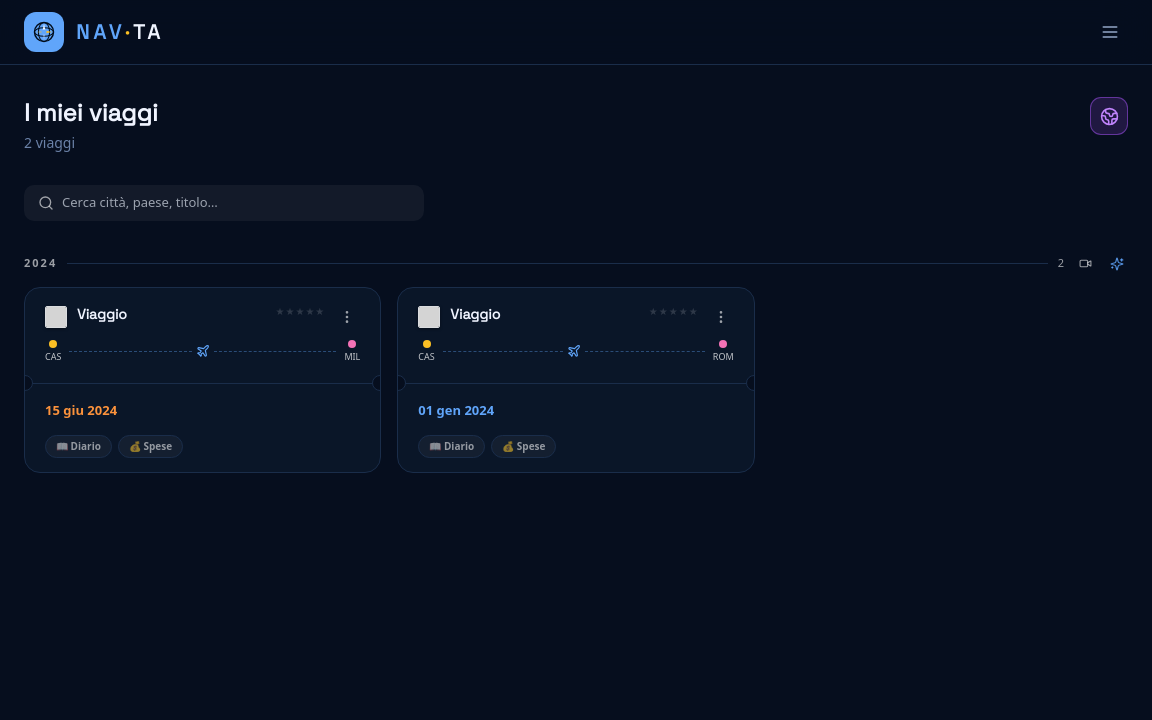
Test: MieiViaggi — recap 3D per anno › il bottone Chiudi chiude la modale del recap
Click the button named "Rivivi il 2024 in 3D": (1085, 264) [1074,252,1096,274]
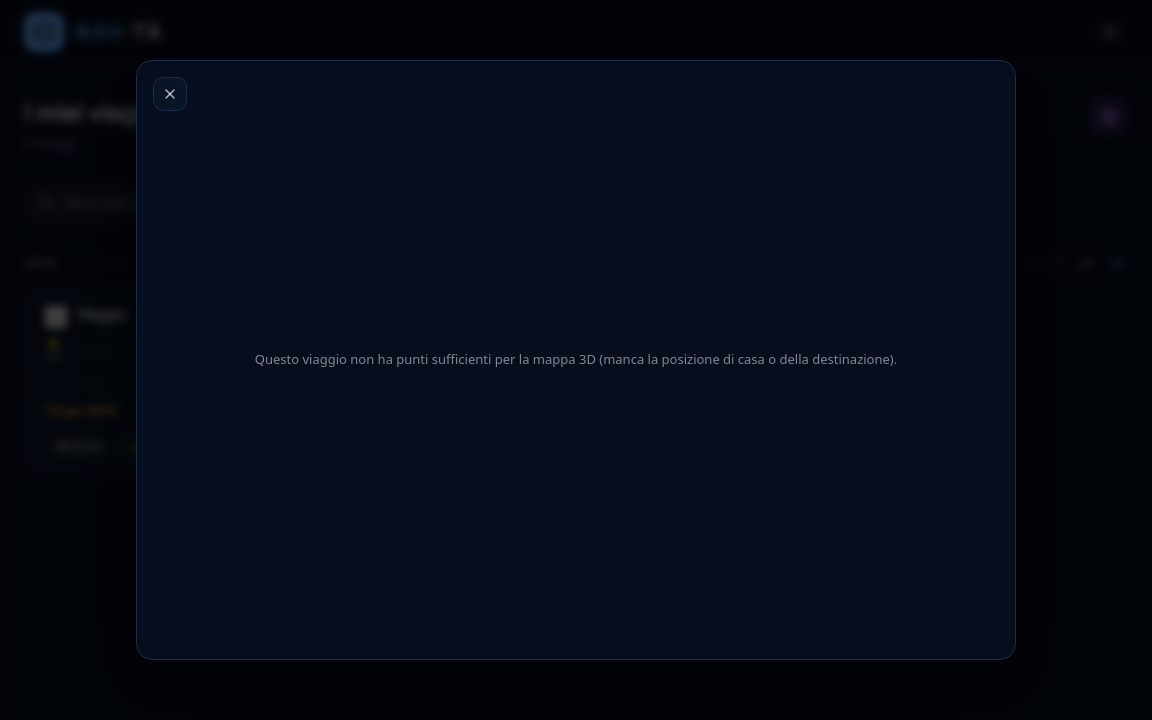
Click the button named "Chiudi": (170, 94) [153,77,187,111]
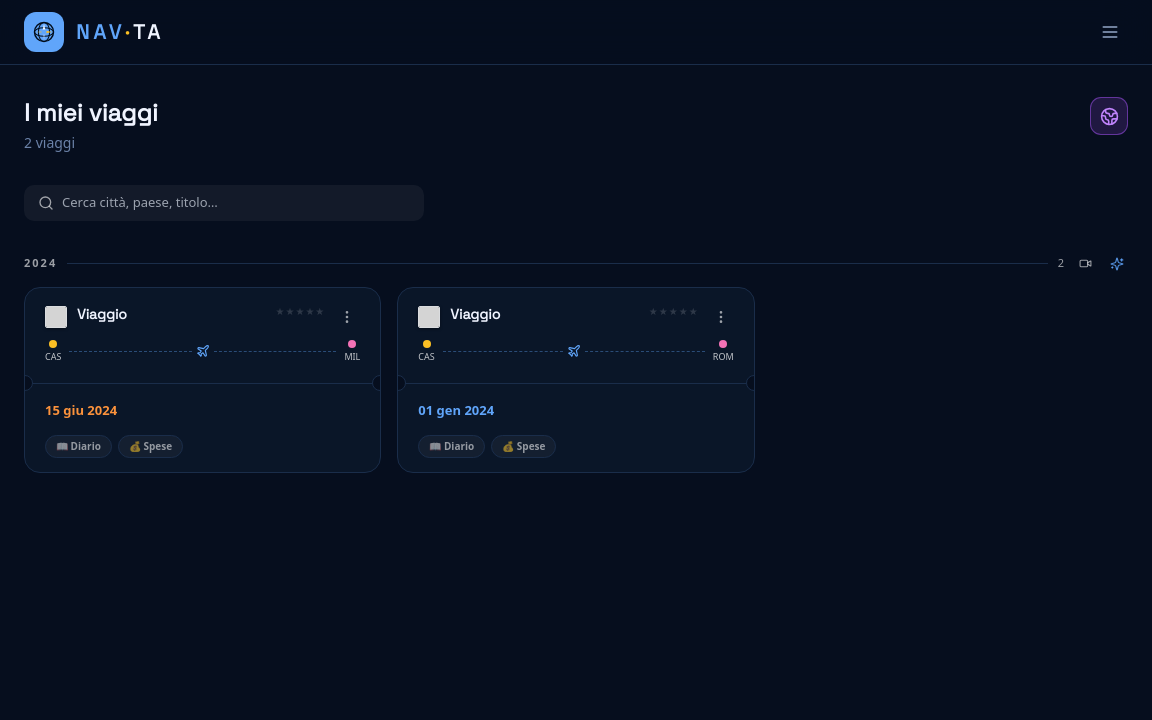
Expected: the button "Chiudi" is gone
